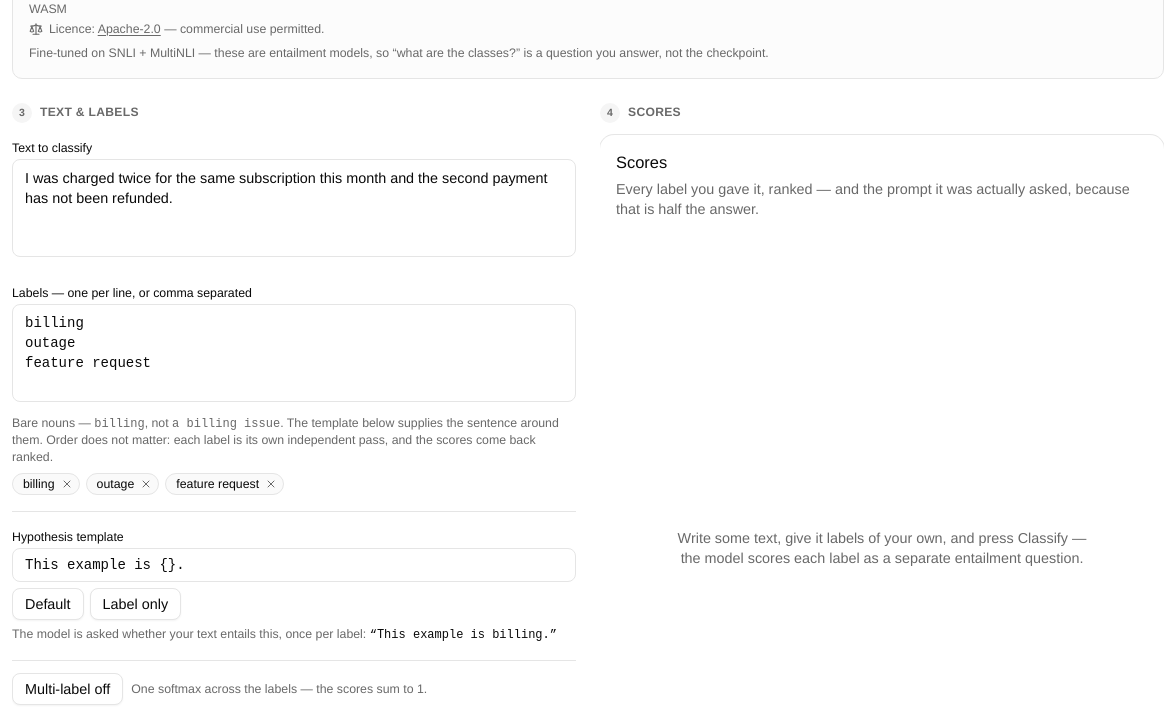
ZeroShotClassificationPage › says one pass for one label, rather than pluralising blindly
The width and height of the screenshot is (1164, 707).
(page scrolled)
Type "urgent" into the text box labelled "Labels — one per line, or comma separated" at (294, 352), box [12,304,576,402]
(page scrolled)
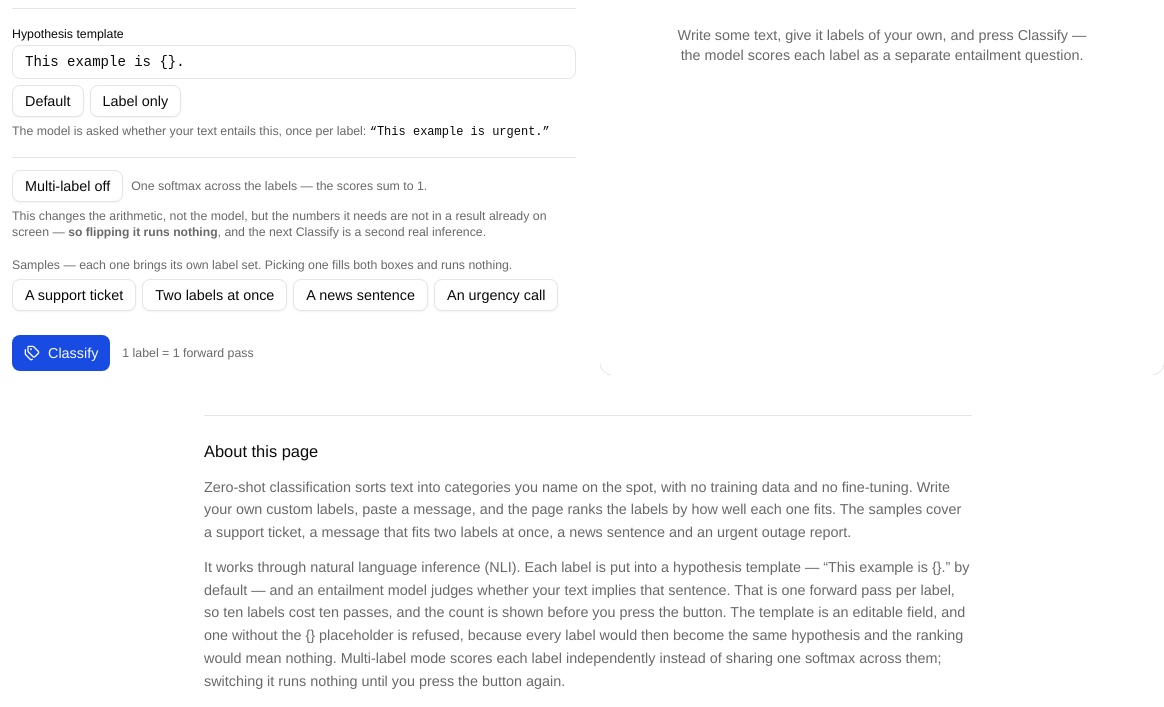
Now the text with test id "pass-count" reads "1 label = 1 forward pass", box [122,344,254,360]
